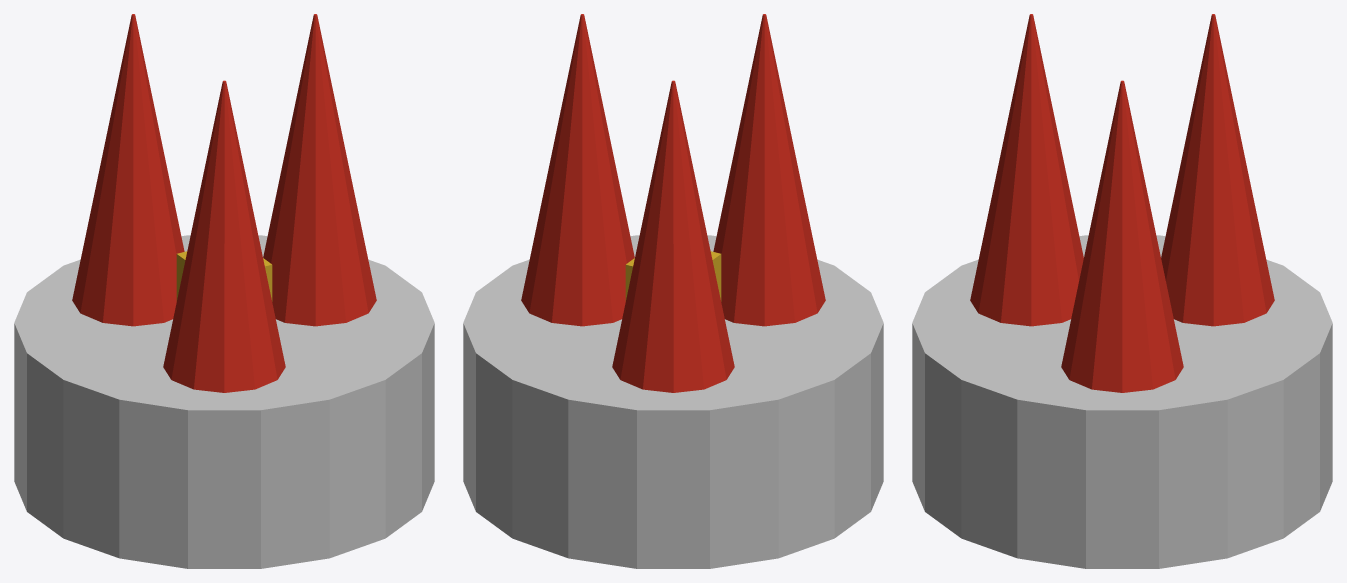
The model's file is mirv_warhead.obj.
3 renders of one model, left to right at view 1: azimuth 30°, elevation 25°; view 2: azimuth 150°, elevation 25°; view 3: azimuth 270°, elevation 25°, orthographic.
Visible parts, largest first — view 1: mirv_warhead; view 2: mirv_warhead; view 3: mirv_warhead.
Part boxes in pixels (x1=…): mirv_warhead: x1=14, y1=14, x2=434, y2=568; mirv_warhead: x1=463, y1=14, x2=883, y2=568; mirv_warhead: x1=912, y1=14, x2=1332, y2=568.
Bounding box in the file's own units: 0.2364 × 0.28 × 0.24.
